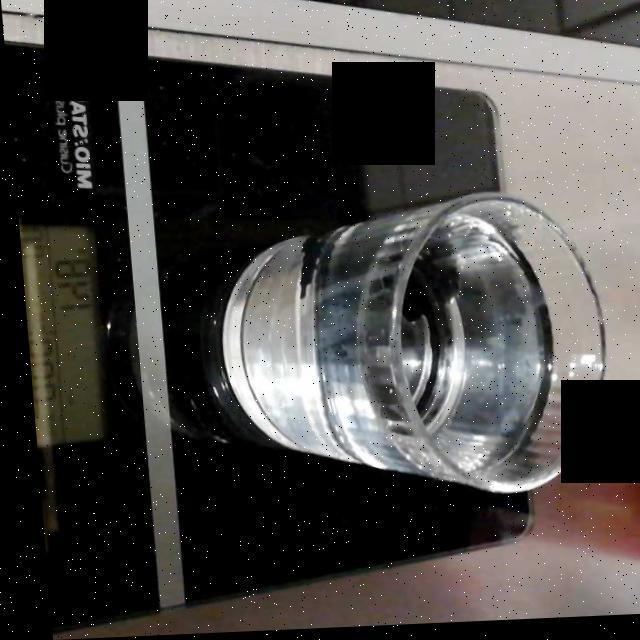water: (220, 186, 566, 485)
